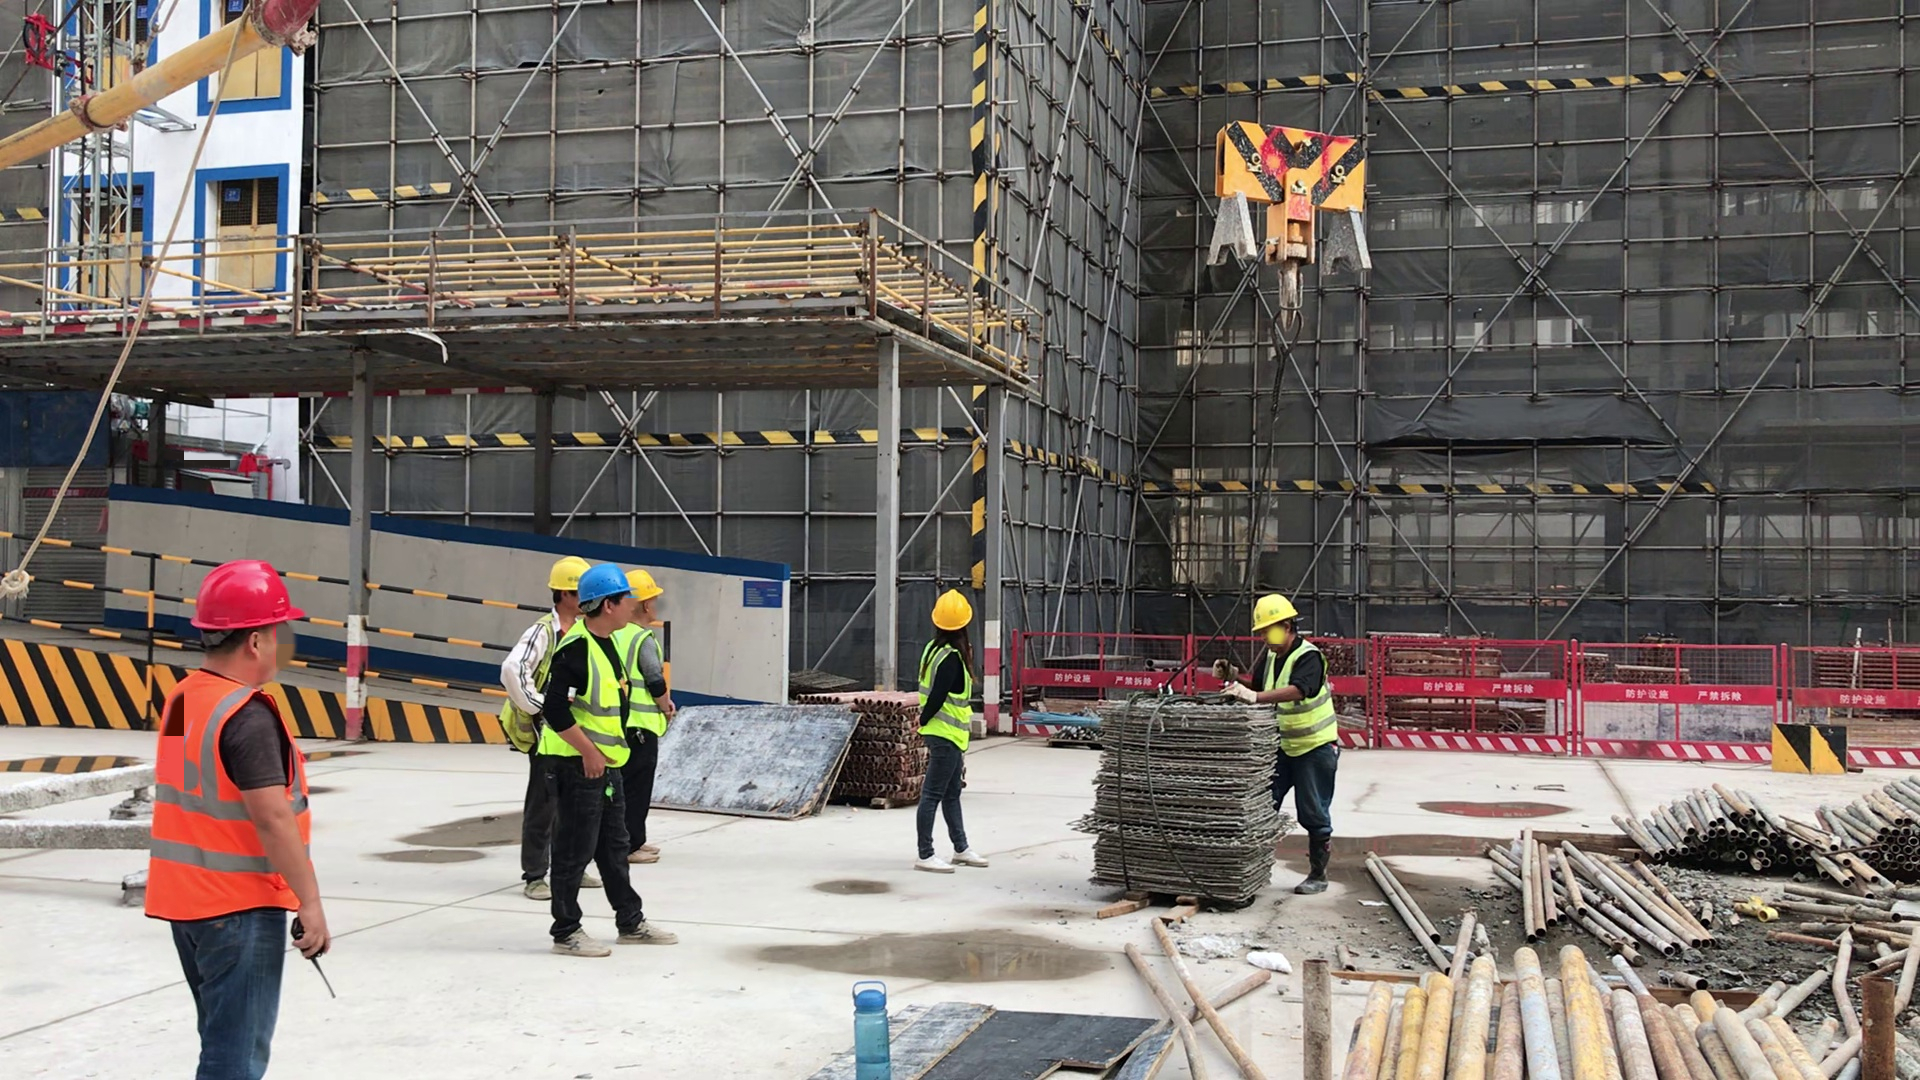helmet: (188, 556, 304, 629), (577, 565, 635, 603), (927, 589, 974, 633), (1246, 593, 1300, 630), (546, 554, 588, 588), (625, 566, 663, 601)
person: (146, 557, 331, 1080), (538, 563, 680, 958), (1211, 595, 1339, 896), (497, 556, 608, 899), (913, 590, 989, 874), (606, 569, 667, 865)
vest: (144, 672, 312, 920), (540, 623, 631, 768), (1261, 639, 1338, 757), (920, 638, 975, 749), (615, 627, 666, 731)
